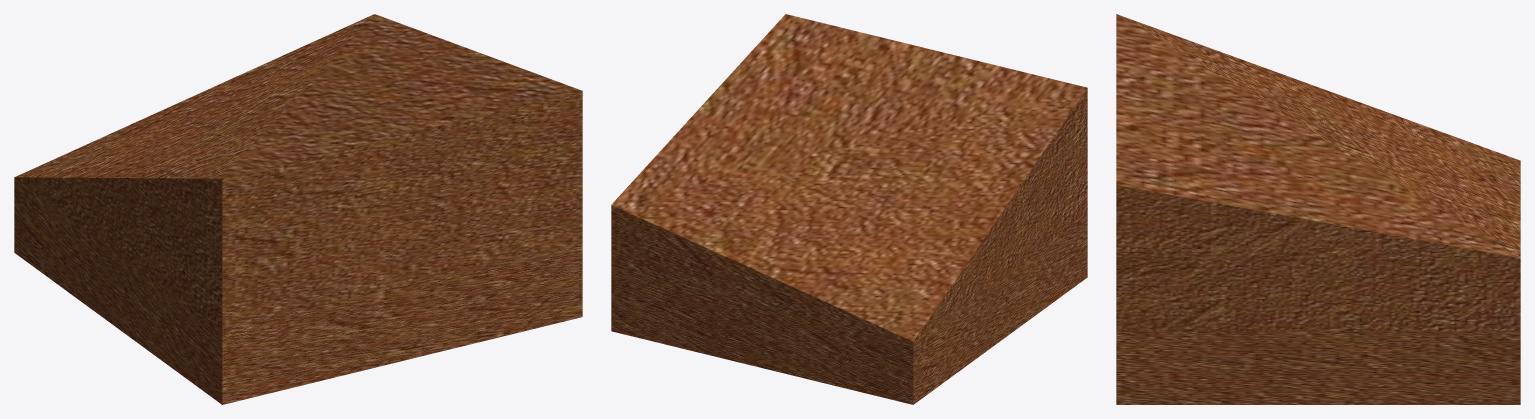
File: Map0122.fbx
3 renders of one model, left to right at view 1: azimuth 30°, elevation 25°; view 2: azimuth 150°, elevation 25°; view 3: azimuth 270°, elevation 25°, orthographic. The views are drawn at different scales.
Visible parts, largest first — view 1: Map0122, Map0000; view 2: Map0122, Map0000; view 3: Map0122, Map0000.
Part boxes in pixels (<box>): Map0122: <box>14,14,582,329</box>; Map0000: <box>14,177,582,404</box>; Map0122: <box>611,14,1087,341</box>; Map0000: <box>611,214,1087,404</box>; Map0122: <box>1116,14,1520,331</box>; Map0000: <box>1116,331,1520,404</box>.
Bounding box in the file's own units: 200 × 120 × 200.
2 materials, 2 textured.
